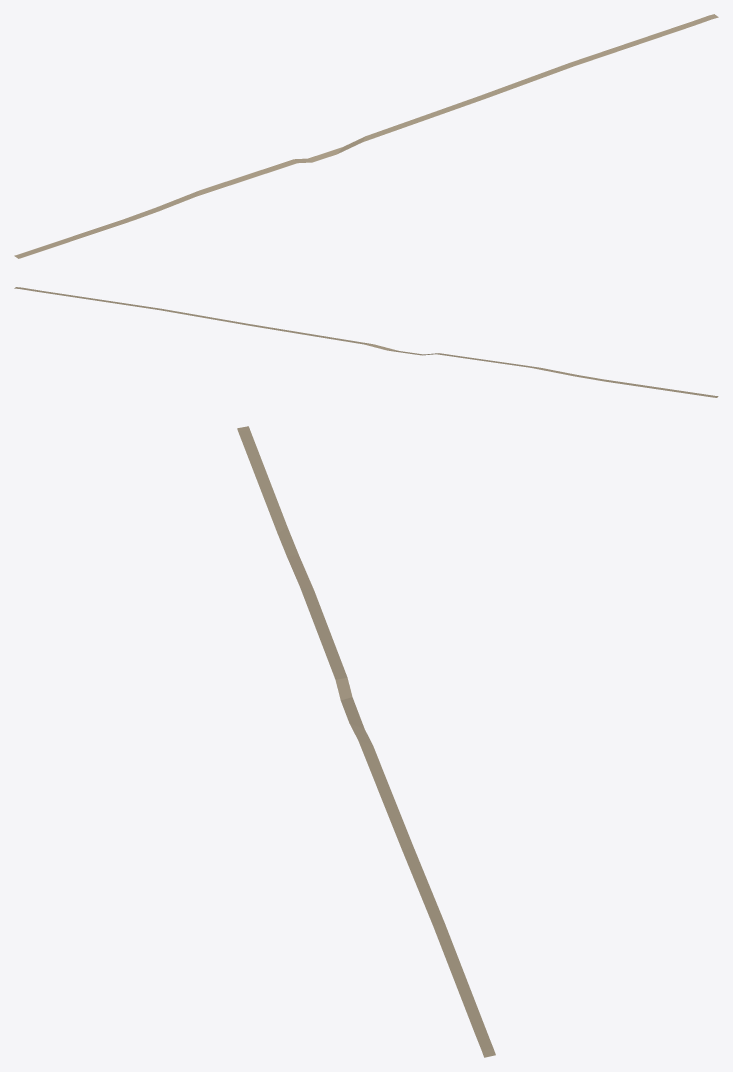
The model's file is farm_-3_7_track.glb.
3 renders of one model, top to bottom at view 1: azimuth 30°, elevation 25°; view 2: azimuth 150°, elevation 25°; view 3: azimuth 270°, elevation 25°, orthographic. The views are drawn at different scales.
Parts seen in each view (by area): view 1: geometry_0; view 2: geometry_0; view 3: geometry_0.
Boxes of the visible parts, box(x1,y1,x2,y2) form: geometry_0: box(14, 14, 718, 258); geometry_0: box(14, 287, 718, 397); geometry_0: box(237, 426, 495, 1057).
Bounding box in the file's own units: 406 × 3.98 × 71.01.
